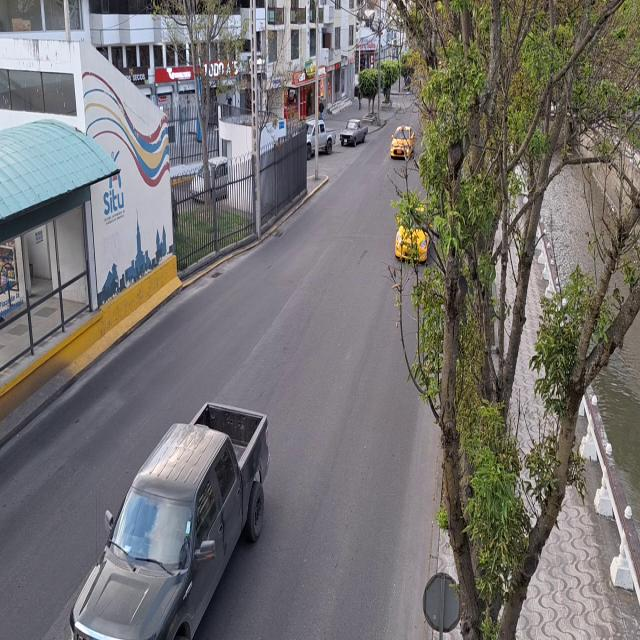CMT: (65, 409, 268, 640)
